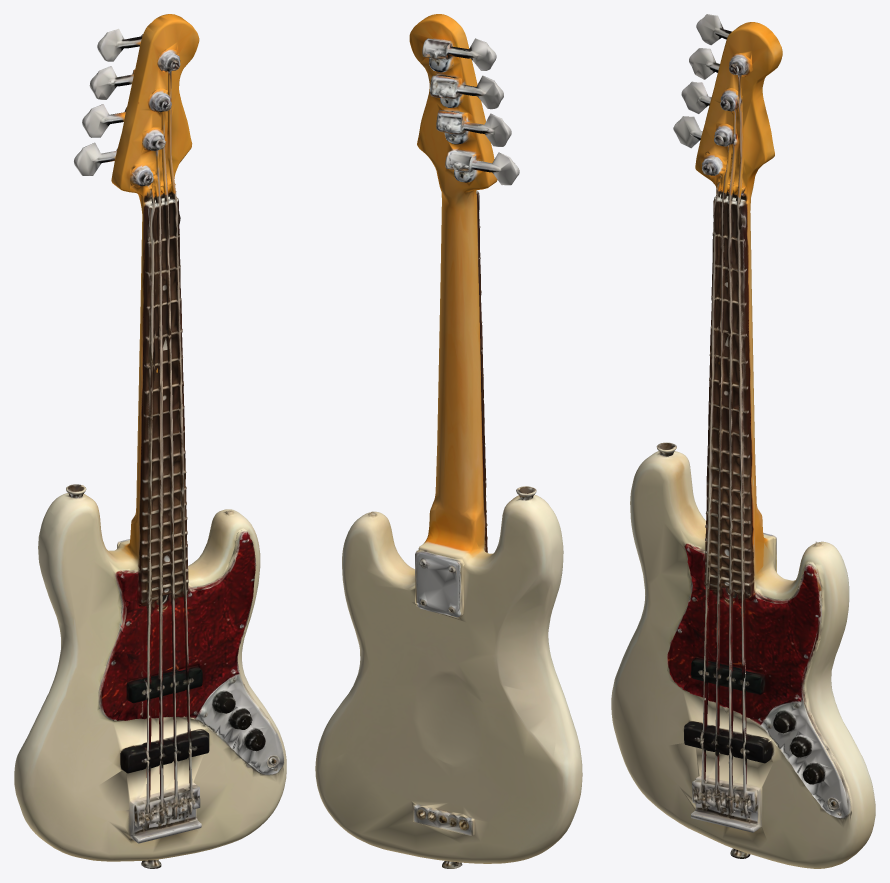
Rendered from bass-white.glb.
The picture shows the model from 3 angles, left to right: view 1: azimuth 30°, elevation 25°; view 2: azimuth 150°, elevation 25°; view 3: azimuth 330°, elevation 25°; orthographic projection.
Parts seen in each view (by area): view 1: tripo_node_fe92c2bd-bef4-4a85-96f2-d19682c8cf88; view 2: tripo_node_fe92c2bd-bef4-4a85-96f2-d19682c8cf88; view 3: tripo_node_fe92c2bd-bef4-4a85-96f2-d19682c8cf88.
Part boxes in pixels (x1,y1,x2,y2): tripo_node_fe92c2bd-bef4-4a85-96f2-d19682c8cf88: [14, 14, 286, 868]; tripo_node_fe92c2bd-bef4-4a85-96f2-d19682c8cf88: [315, 14, 582, 868]; tripo_node_fe92c2bd-bef4-4a85-96f2-d19682c8cf88: [611, 14, 875, 868].
Size of the model in its own units: 0.3152 by 0.9787 by 0.0722.
Materials: 1 (1 with a texture image).
